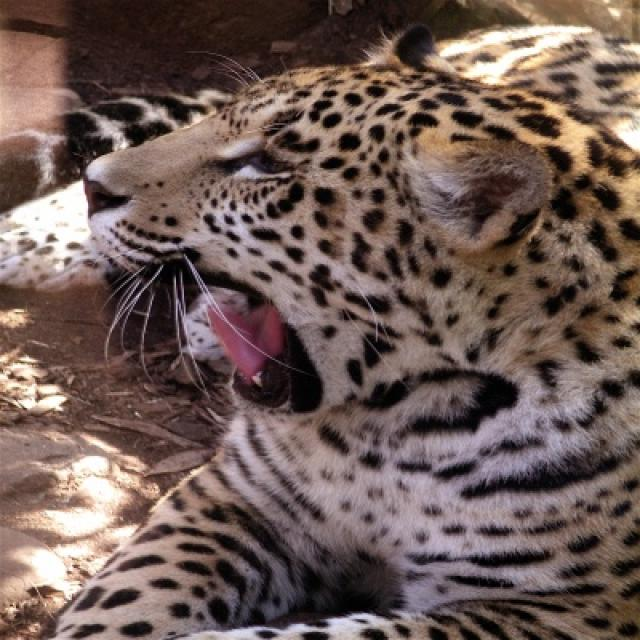Jaguar: (50, 22, 638, 638)
